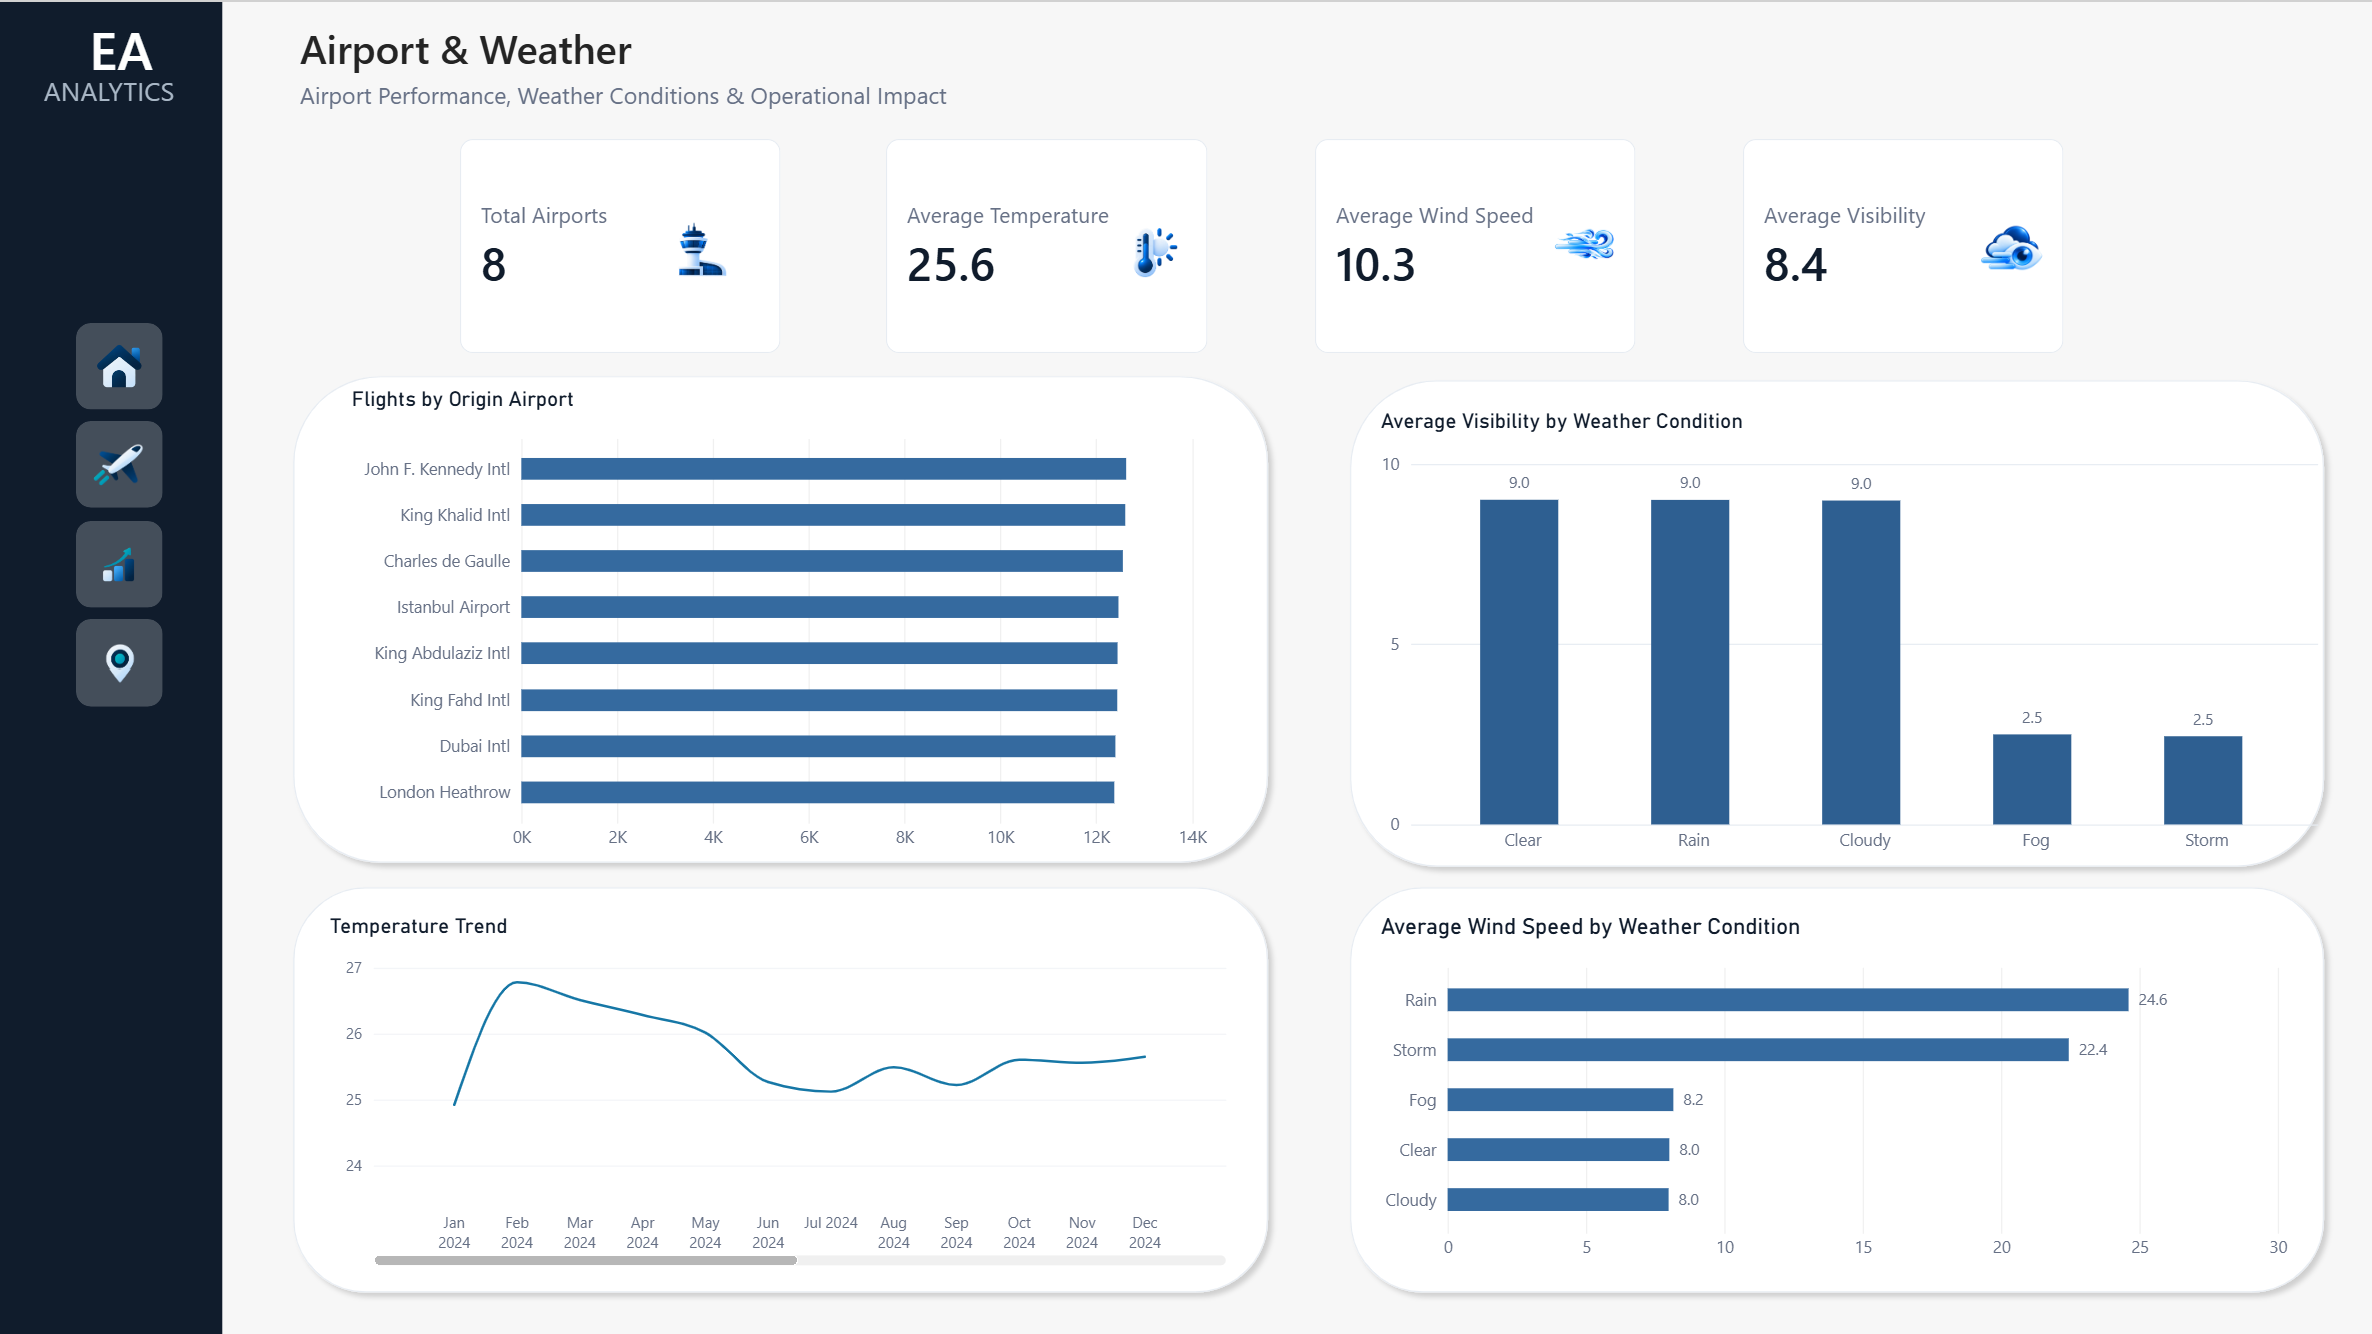

The page's visual inventory and layout, read from the dashboard file:
{"tool":"powerbi","page":{"name":"04 | Airport & Weather ","canvas":[1920,1080],"ordinal":3},"visuals":[{"type":"shape","box":[0,0,182.9,1079.3],"z":0},{"type":"textbox","box":[246,15.9,325.3,68.2],"z":1000},{"type":"textbox","box":[246,63.5,560.1,66.6],"z":2000},{"type":"textbox","box":[10,10,182.9,58],"z":3000},{"type":"textbox","box":[0,58,182.9,55.7],"z":4000},{"type":"actionButton","box":[64.7,260.9,70,70],"z":5000},{"type":"image","box":[78,276.5,44.6,37.9],"z":6000},{"type":"actionButton","box":[64,340,70,70],"z":7000},{"type":"actionButton","box":[64.7,420,70,70],"z":8000},{"type":"actionButton","box":[64.7,500,70,70],"z":9000},{"type":"image","box":[78,356,44,37],"z":10000},{"type":"image","box":[78,436,44,37],"z":11000},{"type":"image","box":[78,516,44,37],"z":12000},{"type":"cardVisual","fields":{"Data":["_Measures.Total Airports"]},"box":[374.2,111.7,259.3,173.6],"z":13000},{"type":"cardVisual","fields":{"Data":["_Measures.Average Temperature"]},"box":[719.8,111.7,259.3,173.6],"z":14000},{"type":"cardVisual","fields":{"Data":["_Measures.Average Wind Speed"]},"box":[1065.3,111.7,259.3,173.6],"z":15000},{"type":"cardVisual","fields":{"Data":["_Measures.Average Visibility"]},"box":[1410.8,111.7,259.3,173.6],"z":16000},{"type":"shape","box":[231.9,294.4,805,410.3],"z":17000},{"type":"shape","box":[231.9,706.9,805,345.6],"z":18000},{"type":"shape","box":[1083.8,296.6,805,410.3],"z":19000},{"type":"shape","box":[1083.8,706.9,805,345.6],"z":20000},{"type":"clusteredBarChart","title":"Flights by Origin Airport","fields":{"Category":["Dim_Origin_Airport.Airport_Name"],"Y":["_Measures.Total Flights"]},"box":[272.1,296.6,722.5,408.1],"z":21000},{"type":"clusteredColumnChart","title":"Average Visibility by Weather Condition","fields":{"Category":["Fact_Weather.Condition"],"Y":["_Measures.Average Visibility"]},"box":[1101.6,314.4,789.4,392.5],"z":22000},{"type":"lineChart","title":"Temperature Trend","fields":{"Category":["Dim_Date.Month Year"],"Y":["_Measures.Average Temperature"]},"box":[254.2,722.5,758.2,314.4],"z":23000},{"type":"clusteredBarChart","title":"Average Wind Speed by Weather Condition","fields":{"Category":["Fact_Weather.Condition"],"Y":["_Measures.Average Wind Speed"]},"box":[1101.6,722.5,764.9,314.4],"z":24000},{"type":"image","box":[546.3,173.9,50,50],"z":25000},{"type":"image","box":[912.1,173.9,50,50],"z":26000},{"type":"image","box":[1603.3,173.9,50,50],"z":27000},{"type":"image","box":[1257.7,171.7,50,50],"z":27001}]}

Visuals, with their boxes in screenshot pixels (x1, y1, x2, y2), scaled from the page's 1920x1080 canvas onto the 2372x1334 screenshot:
shape: Rect(0, 0, 226, 1333)
textbox: Rect(304, 20, 706, 104)
textbox: Rect(304, 78, 996, 161)
textbox: Rect(12, 12, 238, 84)
textbox: Rect(0, 72, 226, 140)
actionButton: Rect(80, 322, 166, 409)
image: Rect(96, 342, 151, 388)
actionButton: Rect(79, 420, 166, 506)
actionButton: Rect(80, 519, 166, 605)
actionButton: Rect(80, 618, 166, 704)
image: Rect(96, 440, 151, 485)
image: Rect(96, 539, 151, 584)
image: Rect(96, 637, 151, 683)
cardVisual - _Measures.Total Airports: Rect(462, 138, 783, 352)
cardVisual - _Measures.Average Temperature: Rect(889, 138, 1210, 352)
cardVisual - _Measures.Average Wind Speed: Rect(1316, 138, 1636, 352)
cardVisual - _Measures.Average Visibility: Rect(1743, 138, 2063, 352)
shape: Rect(286, 364, 1281, 870)
shape: Rect(286, 873, 1281, 1300)
shape: Rect(1339, 366, 2333, 873)
shape: Rect(1339, 873, 2333, 1300)
"Flights by Origin Airport" clusteredBarChart: Rect(336, 366, 1229, 870)
"Average Visibility by Weather Condition" clusteredColumnChart: Rect(1361, 388, 2336, 873)
"Temperature Trend" lineChart: Rect(314, 892, 1251, 1281)
"Average Wind Speed by Weather Condition" clusteredBarChart: Rect(1361, 892, 2306, 1281)
image: Rect(675, 215, 737, 277)
image: Rect(1127, 215, 1189, 277)
image: Rect(1981, 215, 2043, 277)
image: Rect(1554, 212, 1616, 274)
